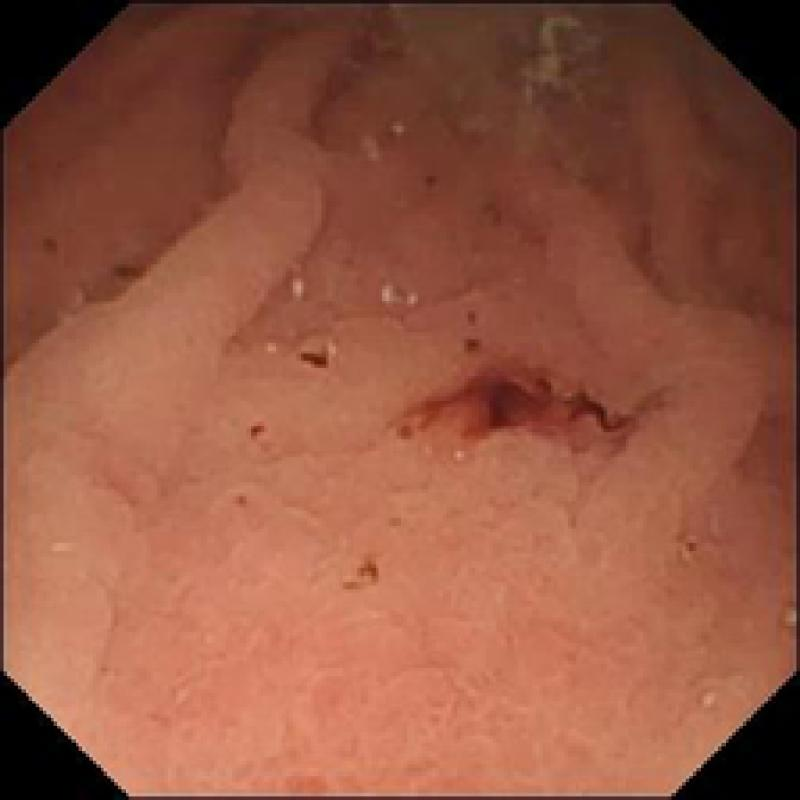bleeding: (382, 303, 636, 443)
